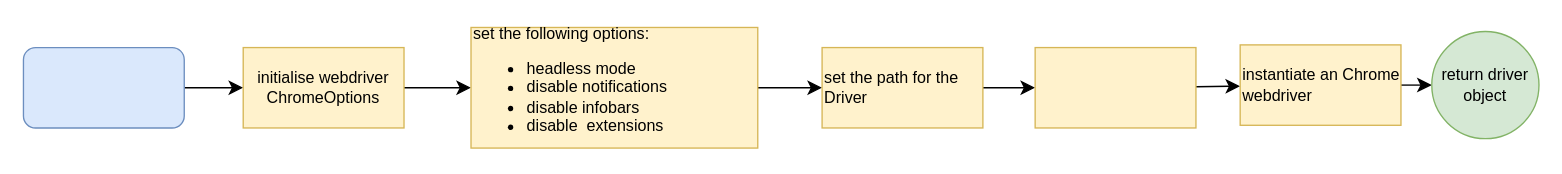
Some shapes in this 1562 by 174 pixel diagram are drawn without their labels. The centre of each missing label's shape, as x and y in pixels:
create_driver: (103,87)
instantiate a Service object with driver path: (1115,87)
